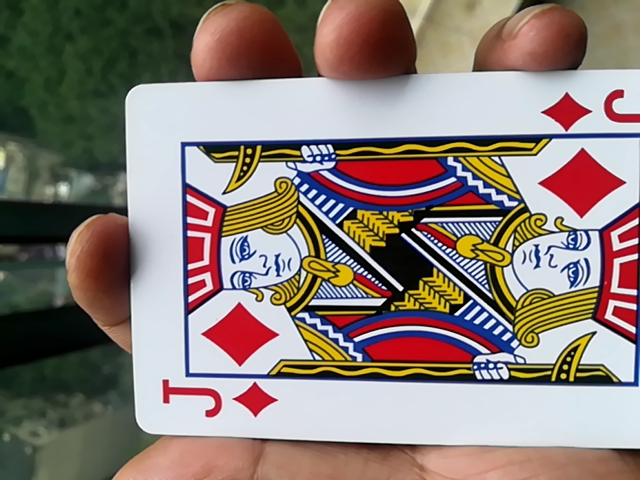fk j: (113, 99, 637, 461)
